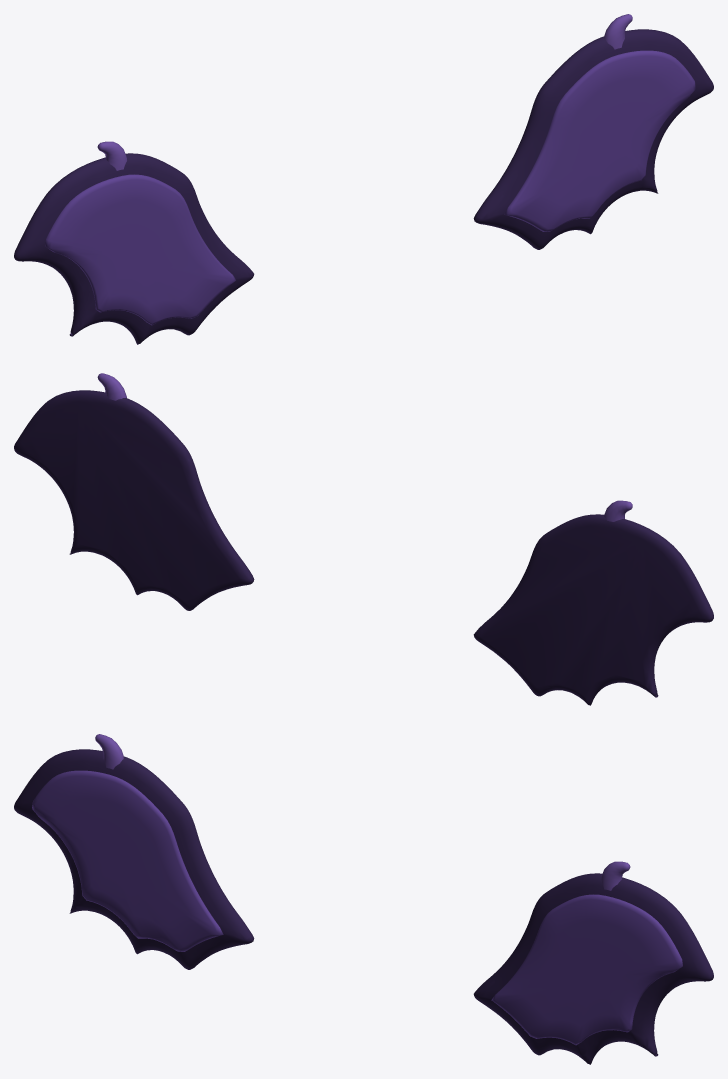
File: bat-wings.glb
3 views of the same model, one above another, from view 1: azimuth 30°, elevation 25°; view 2: azimuth 150°, elevation 25°; view 3: azimuth 330°, elevation 25° (orthographic).
Visible parts, largest first — view 1: bat_panel, bat_wing, bat_claw; view 2: bat_wing, bat_claw; view 3: bat_panel, bat_wing, bat_claw.
Boxes of the visible parts, x1,y1,x2,y2 form: bat_panel: (45,50,695,325); bat_wing: (14,29,713,344); bat_claw: (97,14,632,170); bat_wing: (14,390,713,705); bat_claw: (97,373,632,521); bat_panel: (32,770,682,1045); bat_wing: (14,749,713,1064); bat_claw: (95,734,630,890).
Size of the model in its own units: 2.78 by 0.8144 by 0.082.
